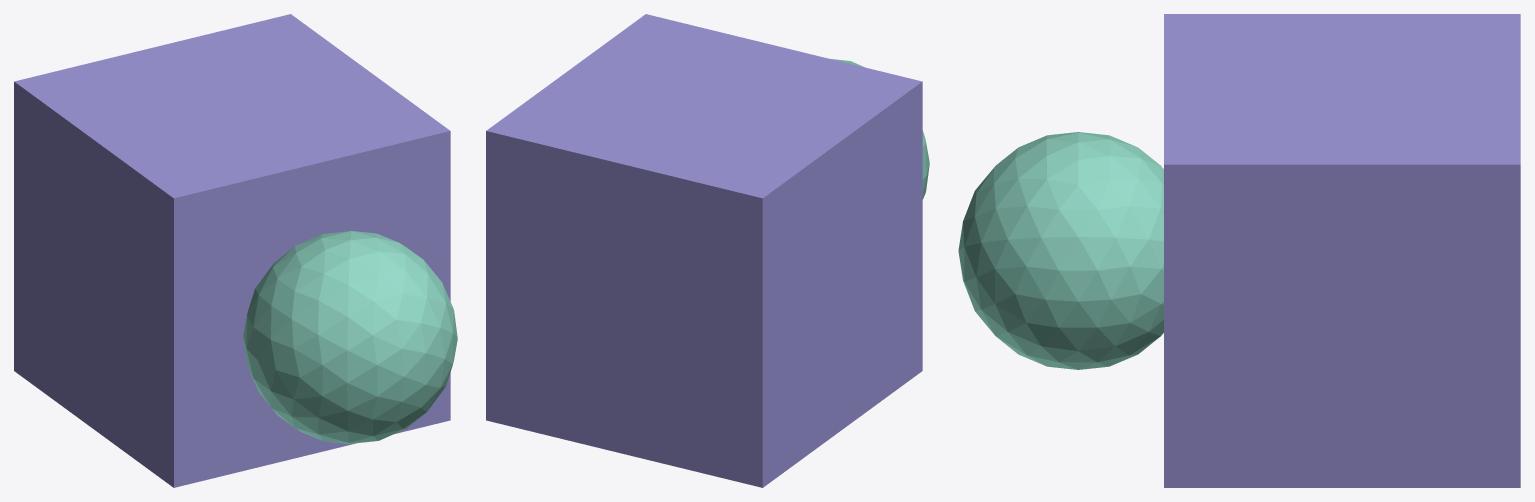
Rendered from sample.glb.
3 views of the same model, side by side, from view 1: azimuth 30°, elevation 25°; view 2: azimuth 150°, elevation 25°; view 3: azimuth 270°, elevation 25° (orthographic). The views are drawn at different scales.
Parts seen in each view (by area): view 1: world; view 2: world; view 3: world.
Part boxes in pixels (x1=…): world: x1=14, y1=14, x2=457, y2=487; world: x1=486, y1=14, x2=929, y2=487; world: x1=958, y1=14, x2=1520, y2=487.
Size of the model in its own units: 1.25 by 1.25 by 1.97.
